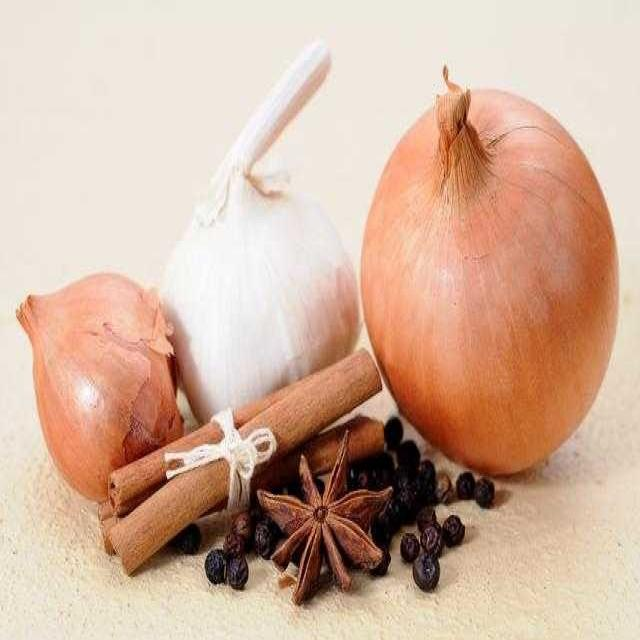onion: (361, 62, 620, 476), (14, 268, 184, 502)
